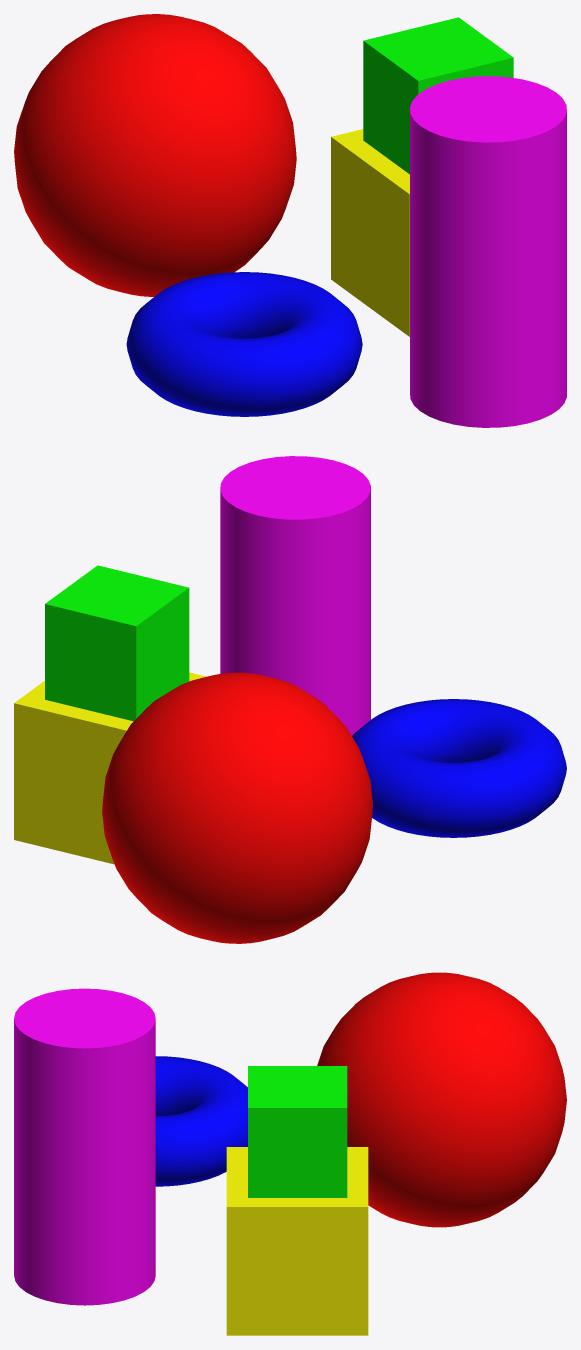
The model's file is primitives2.glb.
3 renders of one model, top to bottom at view 1: azimuth 30°, elevation 25°; view 2: azimuth 150°, elevation 25°; view 3: azimuth 270°, elevation 25°, orthographic. The views are drawn at different scales.
Visible parts, largest first — view 1: Sphere.002, Cylinder.002, Torus, Cube.002, Cube.001; view 2: Sphere.002, Cylinder.002, Torus, Cube.001, Cube.002; view 3: Sphere.002, Cylinder.002, Cube.002, Cube.001, Torus.
Part boxes in pixels (box(x1,y1,x2,y2)): Sphere.002: box(14, 14, 296, 296); Cylinder.002: box(410, 76, 566, 427); Torus: box(126, 272, 362, 416); Cube.002: box(331, 129, 409, 336); Cube.001: box(363, 17, 513, 174); Sphere.002: box(102, 672, 372, 943); Cylinder.002: box(220, 456, 370, 735); Torus: box(352, 699, 566, 837); Cube.001: box(45, 565, 189, 721); Cube.002: box(14, 672, 206, 864); Sphere.002: box(317, 972, 566, 1227); Cylinder.002: box(14, 988, 155, 1305); Cube.002: box(226, 1147, 368, 1335); Cube.001: box(248, 1066, 347, 1197); Torus: box(155, 1056, 247, 1186).
Bounding box in the file's own units: 6.5 × 4 × 7.8.
